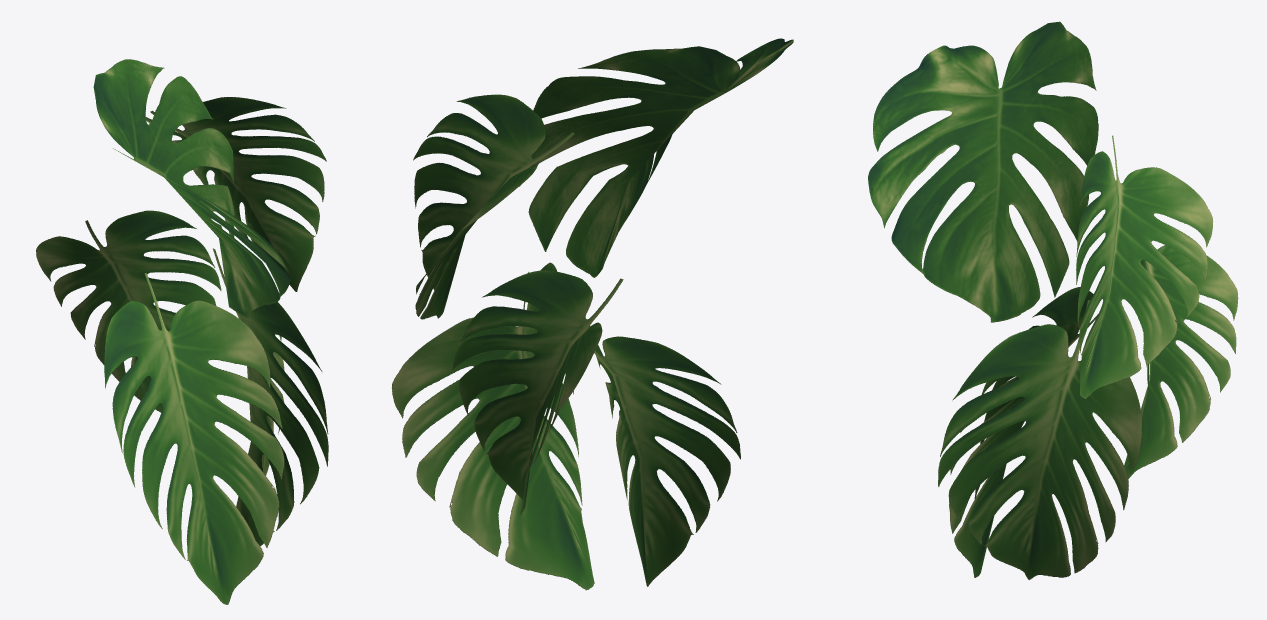
Rendered from MonsteraTall.fbx.
3 renders of one model, left to right at view 1: azimuth 30°, elevation 25°; view 2: azimuth 150°, elevation 25°; view 3: azimuth 270°, elevation 25°, orthographic. The views are drawn at different scales.
Visible parts, largest first — view 1: MonsteraTall; view 2: MonsteraTall; view 3: MonsteraTall.
Boxes of the visible parts, <box> form: MonsteraTall: <box>36,59,328,604</box>; MonsteraTall: <box>392,38,793,590</box>; MonsteraTall: <box>868,21,1238,579</box>.
Bounding box in the file's own units: 97.85 × 178 × 121.
